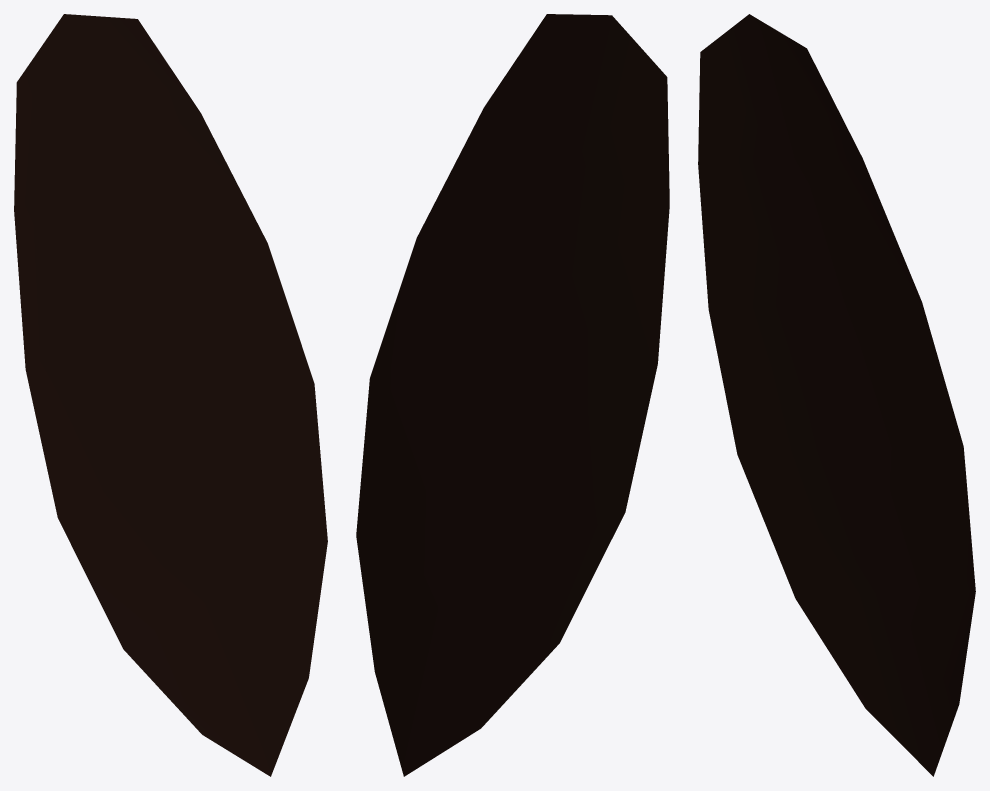
Rendered from rooster_feather_flight_secondary_025.obj.
The picture shows the model from 3 angles, left to right: view 1: azimuth 30°, elevation 25°; view 2: azimuth 150°, elevation 25°; view 3: azimuth 330°, elevation 25°; orthographic projection. The views are drawn at different scales.
Parts seen in each view (by area): view 1: feather_flight_secondary_025; view 2: feather_flight_secondary_025; view 3: feather_flight_secondary_025.
Part boxes in pixels (left/top/right/bottom): feather_flight_secondary_025: left=14, top=14, right=327, bottom=776; feather_flight_secondary_025: left=356, top=14, right=669, bottom=776; feather_flight_secondary_025: left=698, top=14, right=975, bottom=776.
Bounding box in the file's own units: 0.0212 × 0.0526 × 0.000607.
